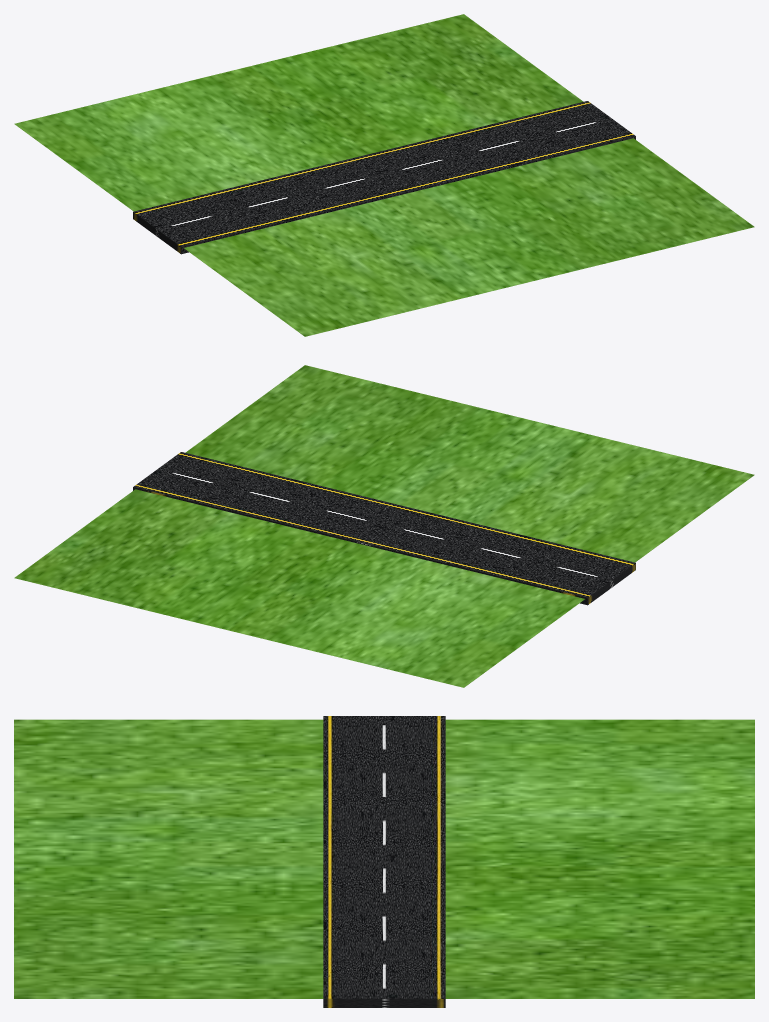
The model's file is pista_teste.obj.
3 renders of one model, top to bottom at view 1: azimuth 30°, elevation 25°; view 2: azimuth 150°, elevation 25°; view 3: azimuth 270°, elevation 25°, orthographic. The views are drawn at different scales.
Parts seen in each view (by area): view 1: pista_teste; view 2: pista_teste; view 3: pista_teste.
Part boxes in pixels (x1,y1,x2,y2): pista_teste: (14, 14, 754, 336); pista_teste: (14, 365, 754, 687); pista_teste: (14, 716, 754, 1007).
Bounding box in the file's own units: 10.9 × 0.1677 × 12.08.
